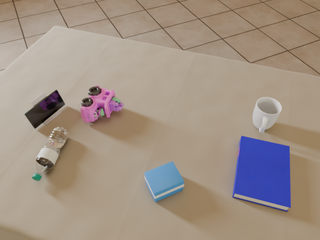book: (233, 136, 291, 211)
bottle: (32, 127, 69, 181)
box: (145, 162, 184, 202)
cup: (253, 97, 282, 133)
phone: (25, 90, 65, 128)
toy_car: (81, 85, 123, 123)
